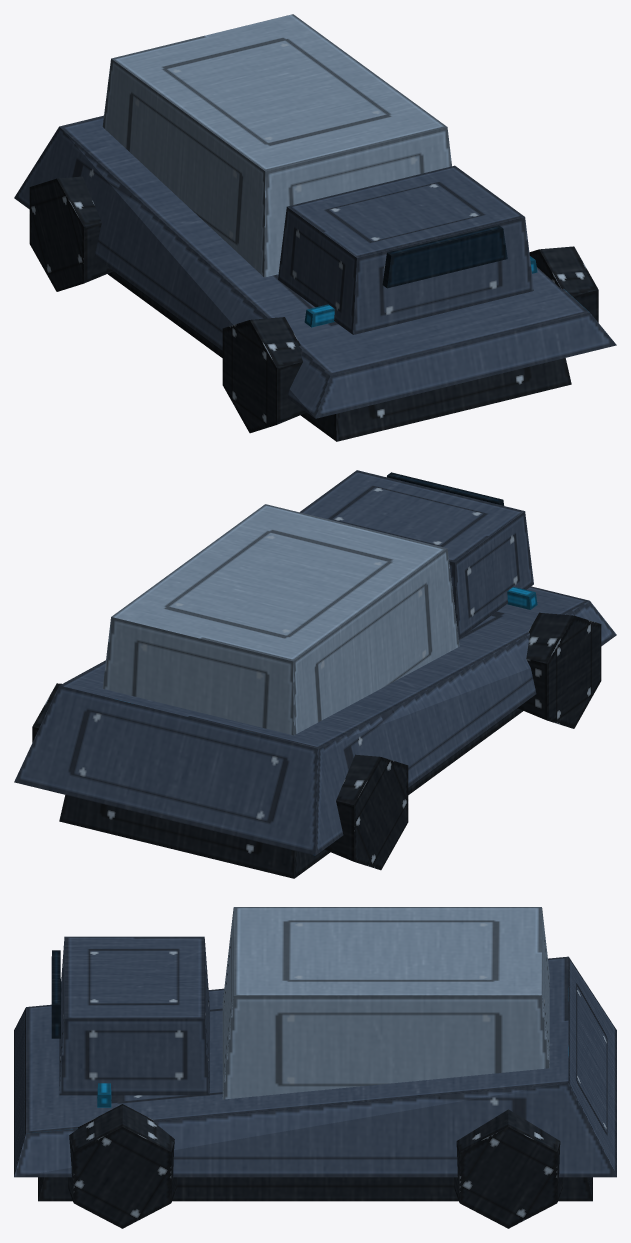
Rendered from unit-supply.fbx.
The picture shows the model from 3 angles, top to bottom: view 1: azimuth 30°, elevation 25°; view 2: azimuth 150°, elevation 25°; view 3: azimuth 270°, elevation 25°; orthographic projection.
Parts seen in each view (by area): view 1: unit-supply; view 2: unit-supply; view 3: unit-supply.
Boxes of the visible parts, x1,y1,x2,y2 form: unit-supply: (14,14,616,441); unit-supply: (14,470,616,878); unit-supply: (14,907,616,1228).
Size of the model in its own units: 323 by 194 by 520.
1 material, 1 textured.
